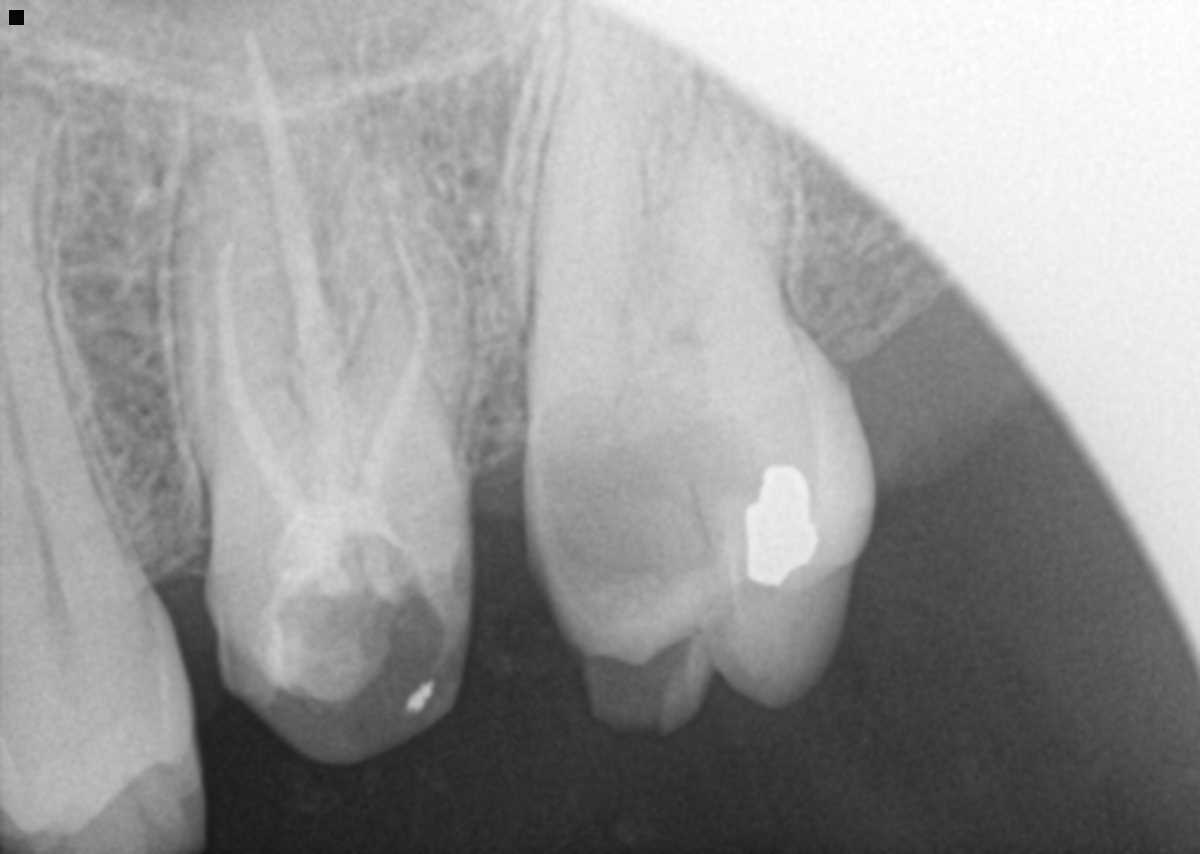Distal Canal: (681, 176, 732, 351)
Distal Root: (322, 38, 467, 482), (630, 7, 790, 374)
Main Canal: (2, 351, 63, 592)
Main Root: (0, 84, 126, 597)
Mesial Root: (167, 60, 324, 518), (520, 0, 640, 387)
Palatal Root: (193, 9, 450, 551)
Root Canal Filling: (240, 27, 351, 472), (214, 246, 306, 500), (356, 195, 429, 482)
decay: (535, 403, 723, 631)
